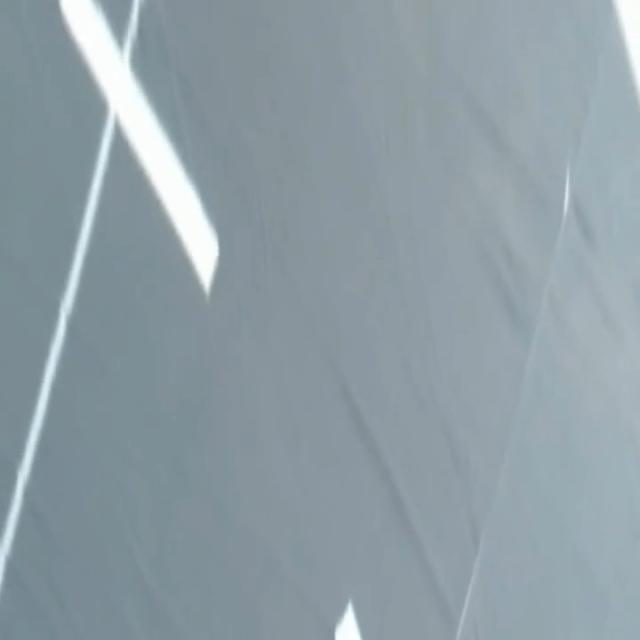center: (60, 0, 219, 293), (335, 603, 361, 639)
